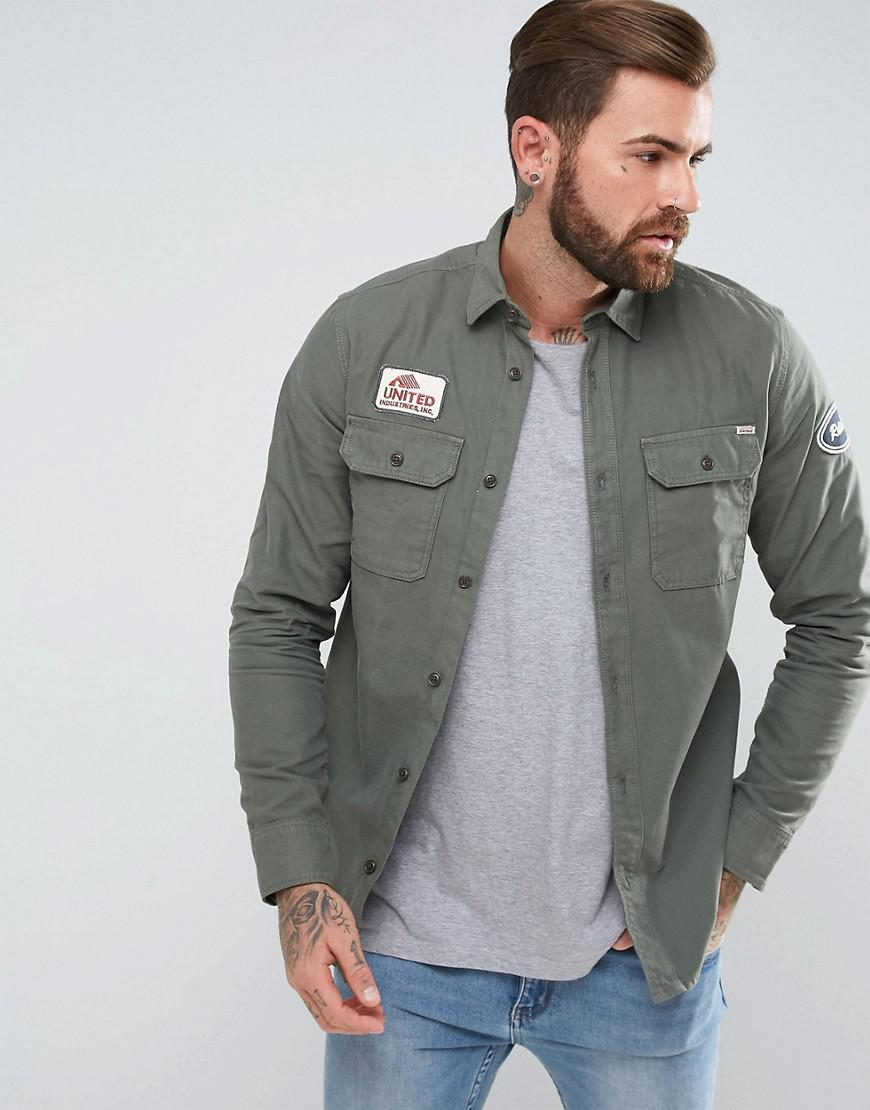teeshirt: (205, 208, 857, 1018)
